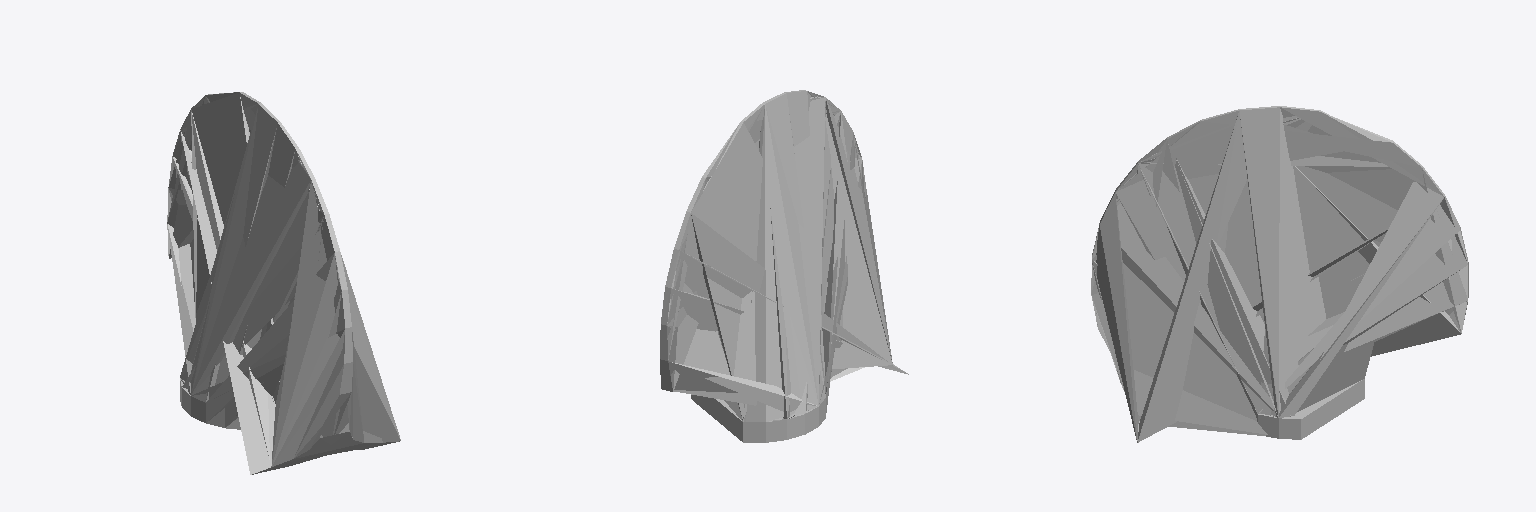
File: Skydusk1.obj
The picture shows the model from 3 angles: view 1: azimuth 30°, elevation 25°; view 2: azimuth 150°, elevation 25°; view 3: azimuth 270°, elevation 25°; orthographic projection.
Parts seen in each view (by area): view 1: _05_ground, _04_ground, _02_water, _00_sky; view 2: _05_ground, _00_sky, _04_ground, _02_water, _20_ring, _35_clouds; view 3: _05_ground, _04_ground, _00_sky, _02_water.
Boxes of the visible parts, <box> form: _05_ground: <box>167,92,400,474</box>; _04_ground: <box>167,92,399,474</box>; _02_water: <box>180,105,334,428</box>; _00_sky: <box>180,103,276,429</box>; _05_ground: <box>667,90,907,437</box>; _00_sky: <box>691,95,825,441</box>; _04_ground: <box>660,90,908,442</box>; _02_water: <box>743,93,825,441</box>; _20_ring: <box>702,103,890,441</box>; _35_clouds: <box>749,407,818,442</box>; _05_ground: <box>1091,106,1467,439</box>; _04_ground: <box>1091,106,1468,442</box>; _00_sky: <box>1248,106,1364,439</box>; _02_water: <box>1116,106,1300,439</box>.
Size of the model in its own units: 1006213 by 1968698 by 2220333.